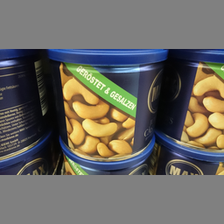nuts: (45, 49, 171, 162)
